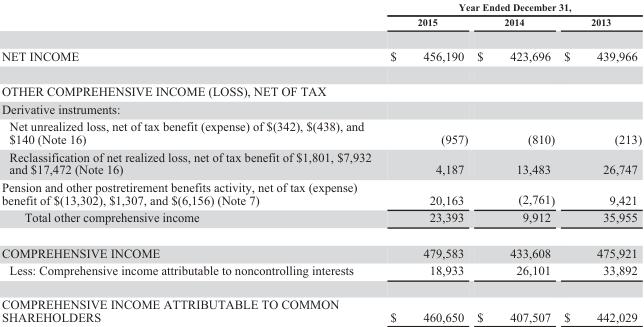table: (1, 0, 641, 323)
table column: (1, 0, 380, 323), (380, 0, 471, 323), (471, 0, 558, 323), (558, 0, 641, 323)
table column header: (1, 0, 641, 37)
table projected row header: (1, 73, 641, 99), (1, 99, 641, 117)
table row: (1, 37, 641, 73), (1, 287, 641, 323), (1, 177, 641, 208), (1, 117, 641, 147), (1, 147, 641, 177), (1, 234, 641, 261), (1, 73, 641, 99), (1, 208, 641, 234), (1, 261, 641, 287), (1, 13, 641, 37), (1, 99, 641, 117), (1, 0, 641, 13)
table spanning cell: (380, 0, 641, 13)
